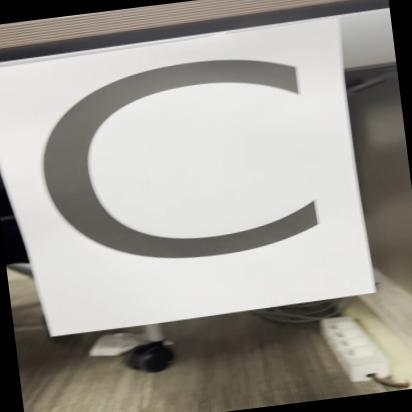seat: (0, 23, 403, 325)
